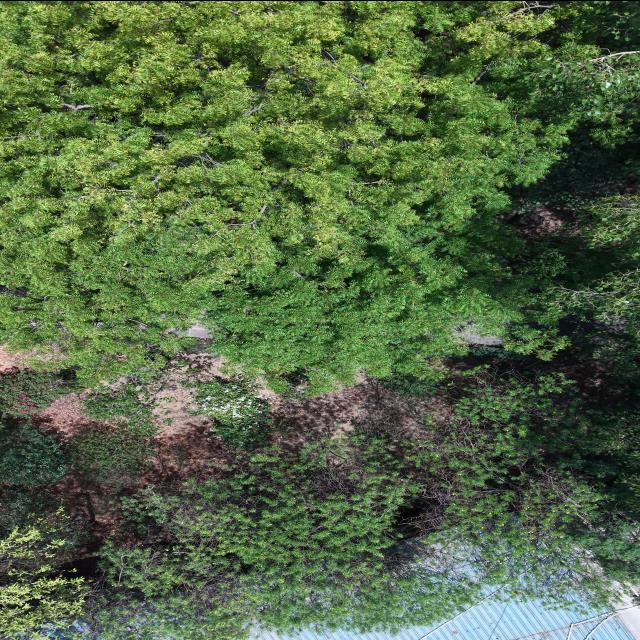DRY_AREA: (118, 353, 231, 492), (126, 353, 231, 491), (125, 353, 228, 491), (260, 376, 447, 450), (260, 376, 445, 449), (261, 376, 443, 448), (264, 377, 446, 449), (262, 379, 446, 448), (138, 353, 226, 485), (123, 370, 218, 491), (149, 355, 224, 479), (152, 353, 225, 479), (153, 388, 219, 474), (47, 470, 119, 540), (34, 394, 93, 437), (497, 206, 575, 238), (0, 346, 57, 371), (0, 346, 25, 372)
ROOFTOP_BUILDING: (254, 599, 639, 639)
VEGETATION_TREE: (0, 1, 639, 639), (1, 1, 634, 393), (87, 369, 636, 639), (101, 439, 471, 638), (0, 509, 84, 637), (67, 384, 159, 484), (66, 421, 156, 484), (194, 377, 272, 449), (0, 424, 67, 487), (0, 369, 70, 417), (0, 485, 60, 533), (83, 385, 151, 423), (379, 374, 438, 397)
